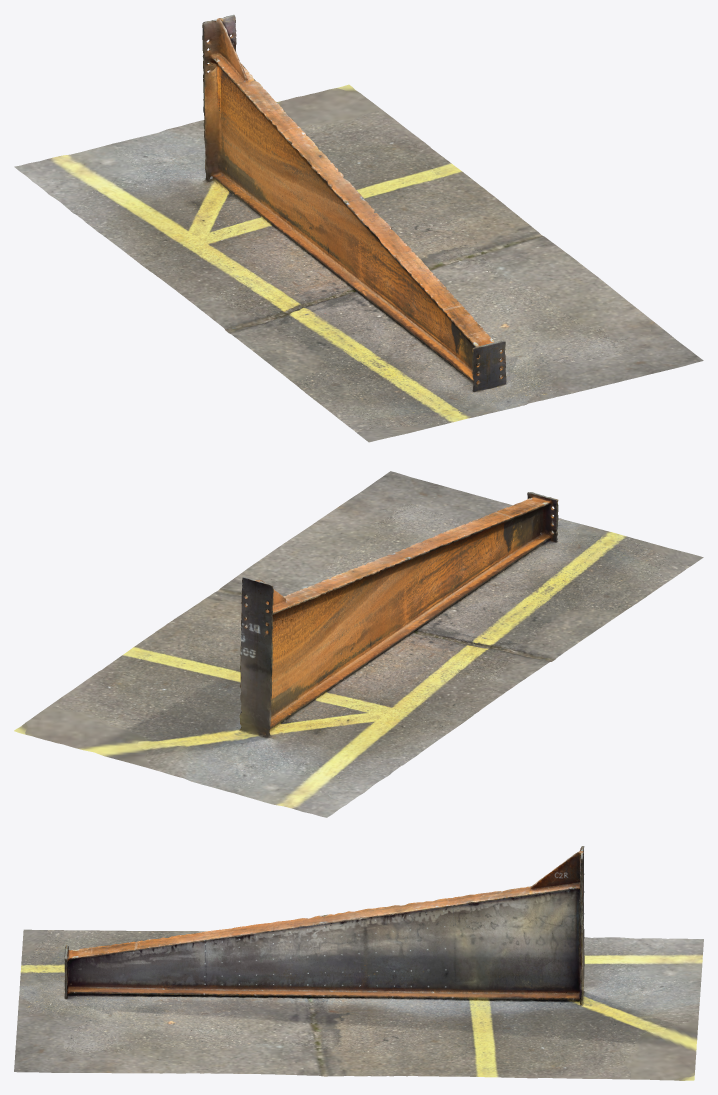
3 renders of one model, top to bottom at view 1: azimuth 30°, elevation 25°; view 2: azimuth 150°, elevation 25°; view 3: azimuth 270°, elevation 25°, orthographic. The views are drawn at different scales.
Size of the model in its own units: 1.58 by 0.7134 by 2.97.
1 material, 1 textured.
